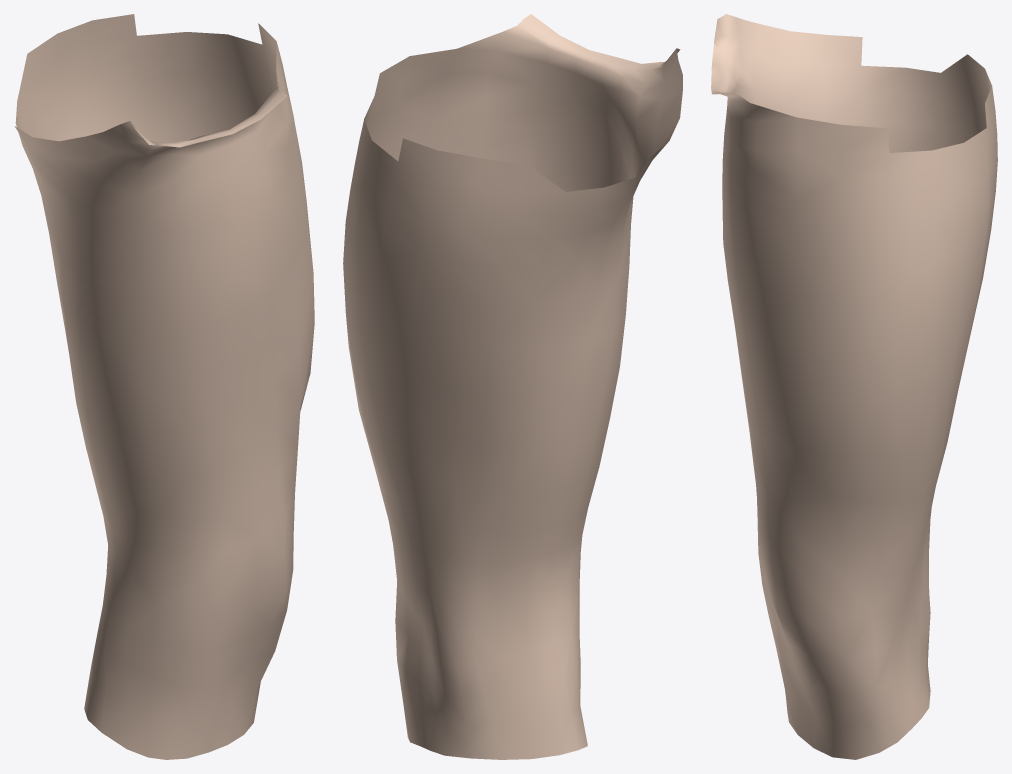
Rendered from human_leftupperleg.dae.
3 views of the same model, side by side, from view 1: azimuth 30°, elevation 25°; view 2: azimuth 150°, elevation 25°; view 3: azimuth 270°, elevation 25° (orthographic). The views are drawn at different scales.
Parts seen in each view (by area): view 1: frank_skeleton-base; view 2: frank_skeleton-base; view 3: frank_skeleton-base.
Part boxes in pixels (x1,y1,x2,y2): frank_skeleton-base: (14,14,314,759); frank_skeleton-base: (343,14,682,759); frank_skeleton-base: (711,14,997,759).
Size of the model in its own units: 0.211 by 0.1884 by 0.4779.
